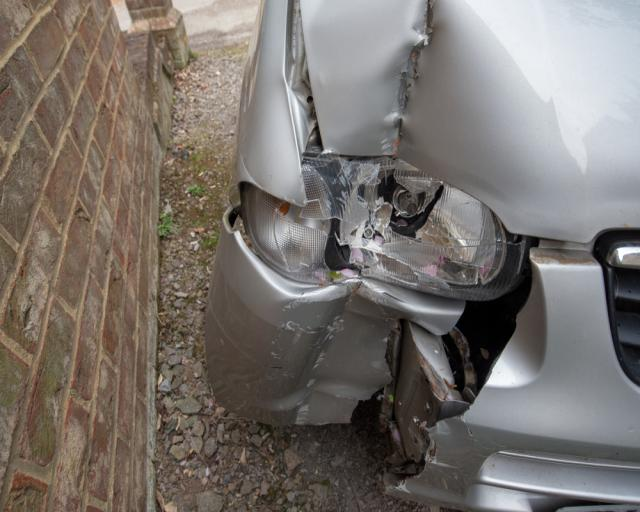crack: (347, 305, 517, 492)
dent: (310, 0, 470, 176), (269, 281, 395, 425)
lamp broken: (241, 149, 509, 300)
